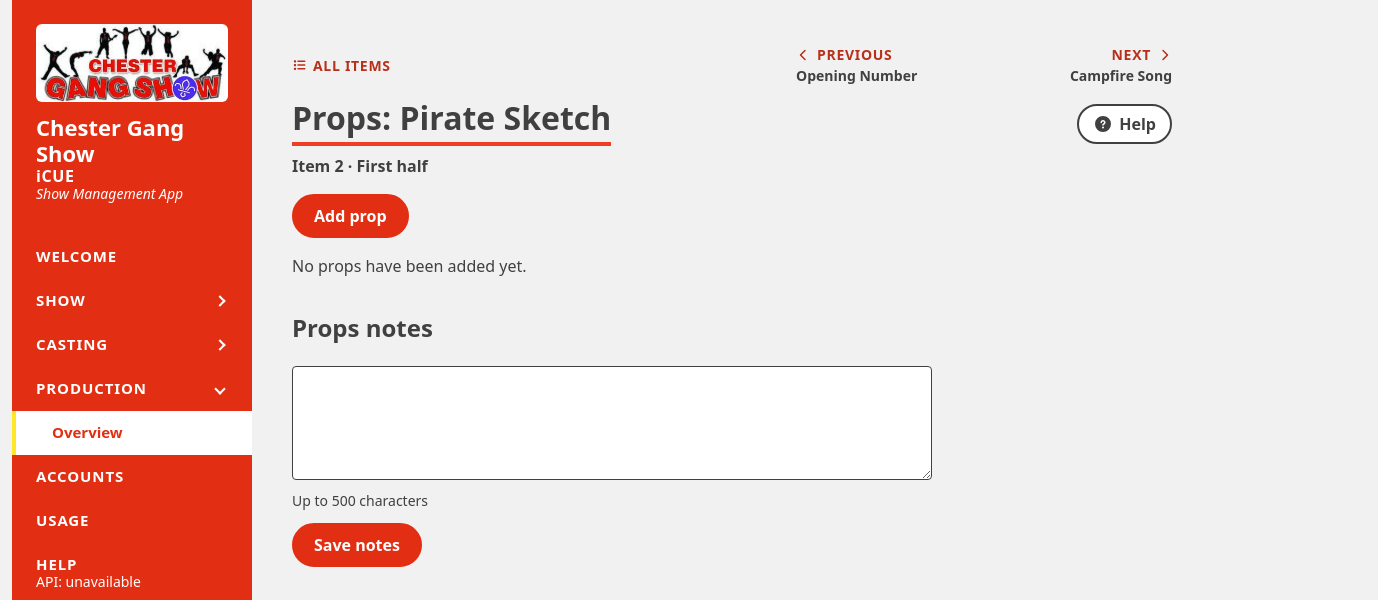
Scenario: Adding a prop › says a prop needs a name when it's empty, saving nothing
Click the button with test id "add-prop".
click(350, 216)  # box [292,194,409,238]
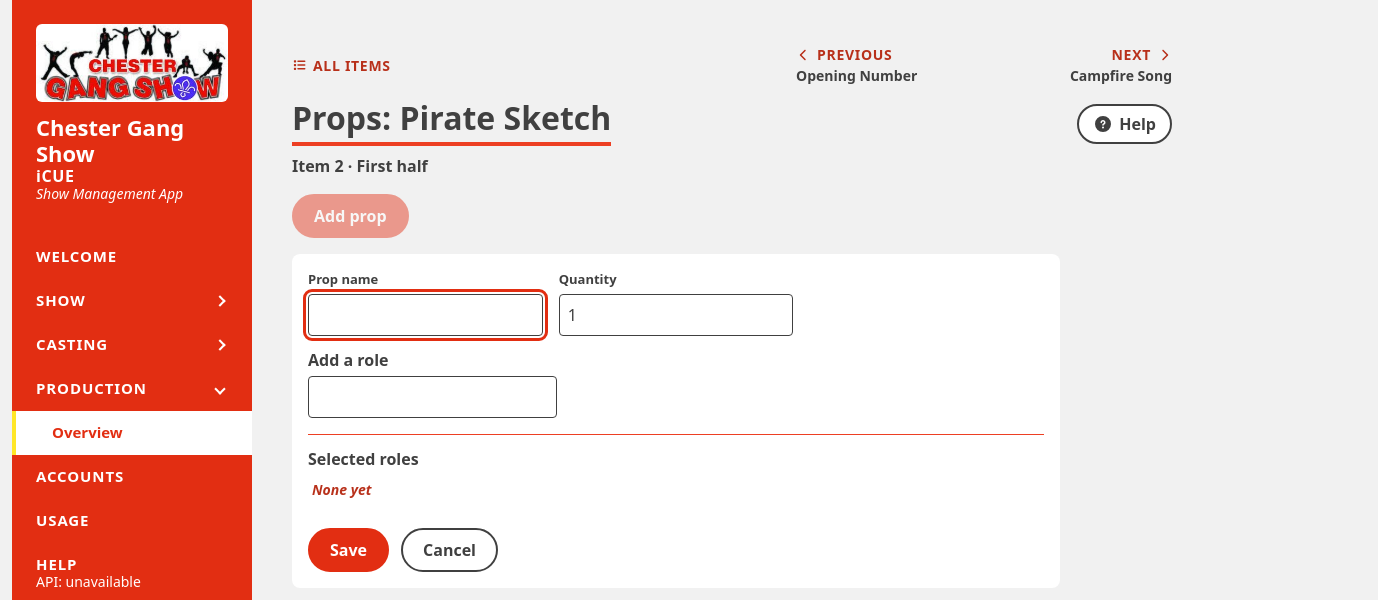
Submit the form named "Add prop", box [292,254,1060,588]
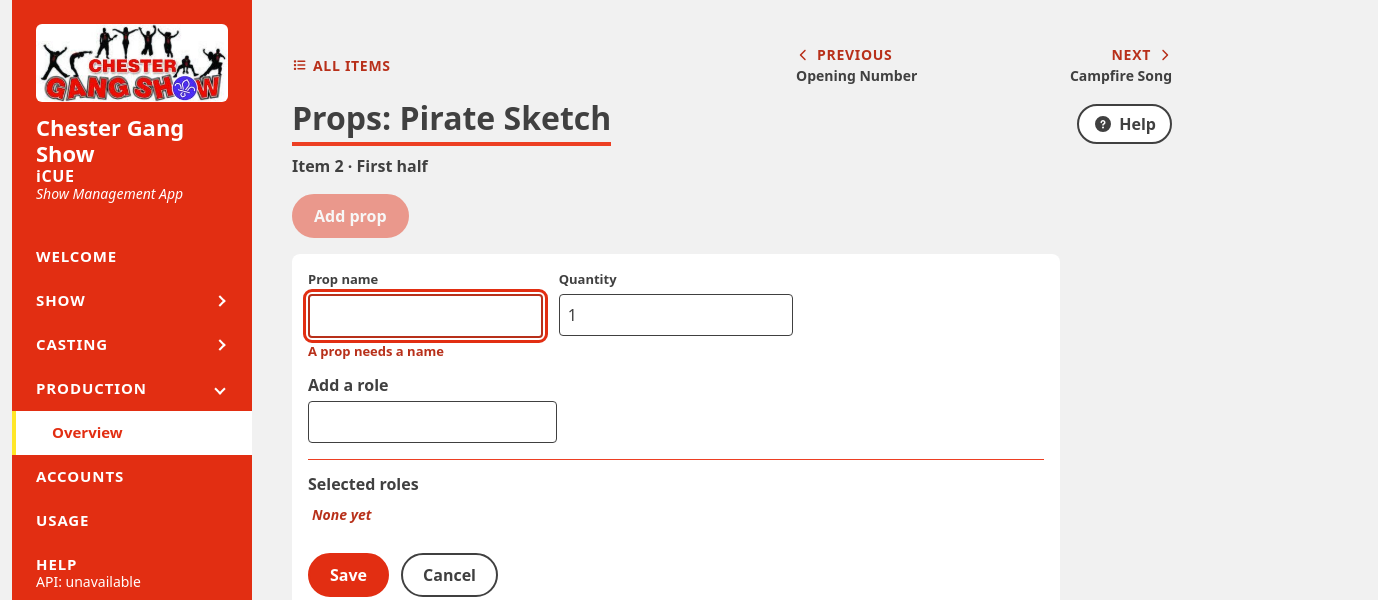
Expected: the text "A prop needs a name" is shown, [308,342,444,360]
